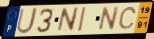3: (36, 8, 55, 34)
C: (117, 6, 138, 31)
I: (77, 6, 88, 33)
N: (97, 6, 121, 32), (56, 7, 80, 33)
U: (15, 7, 39, 35)
